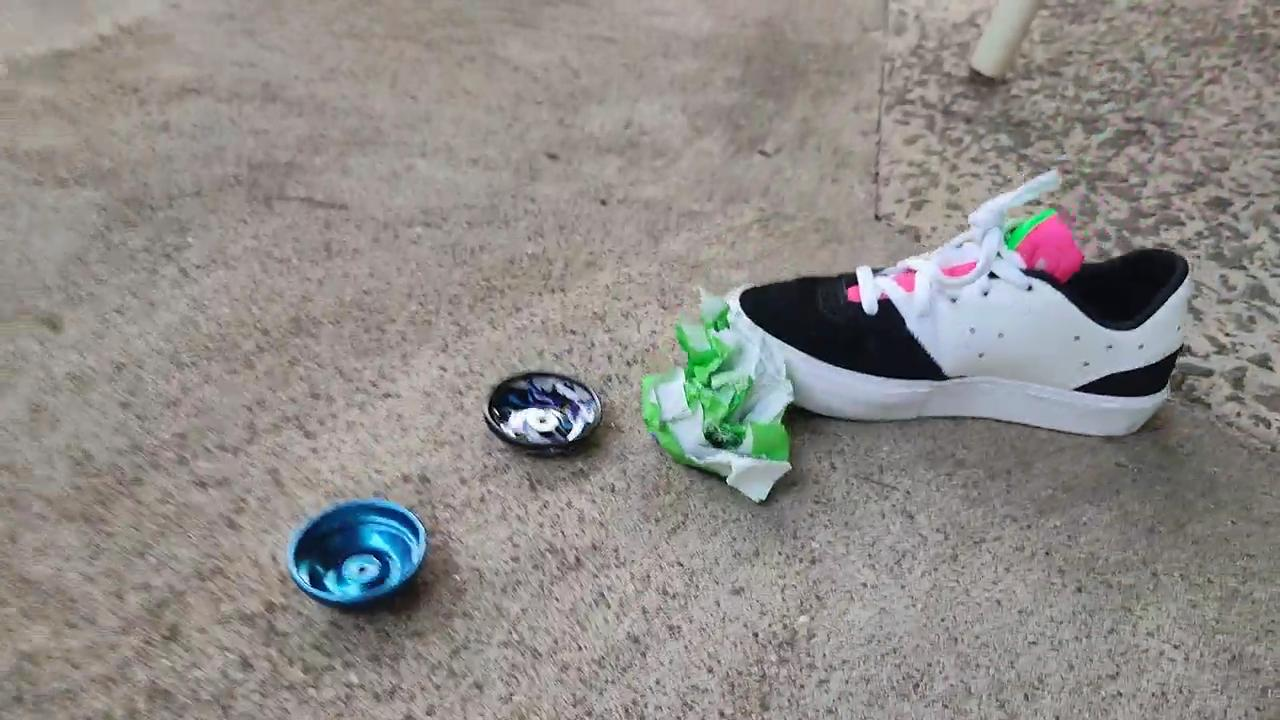Paper: (659, 294, 798, 498)
